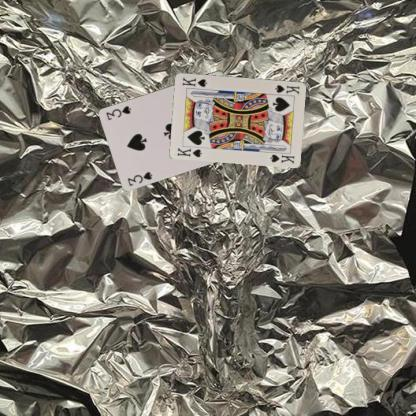3s: (124, 169, 154, 187)
Ks: (273, 82, 301, 95), (175, 145, 203, 158)
